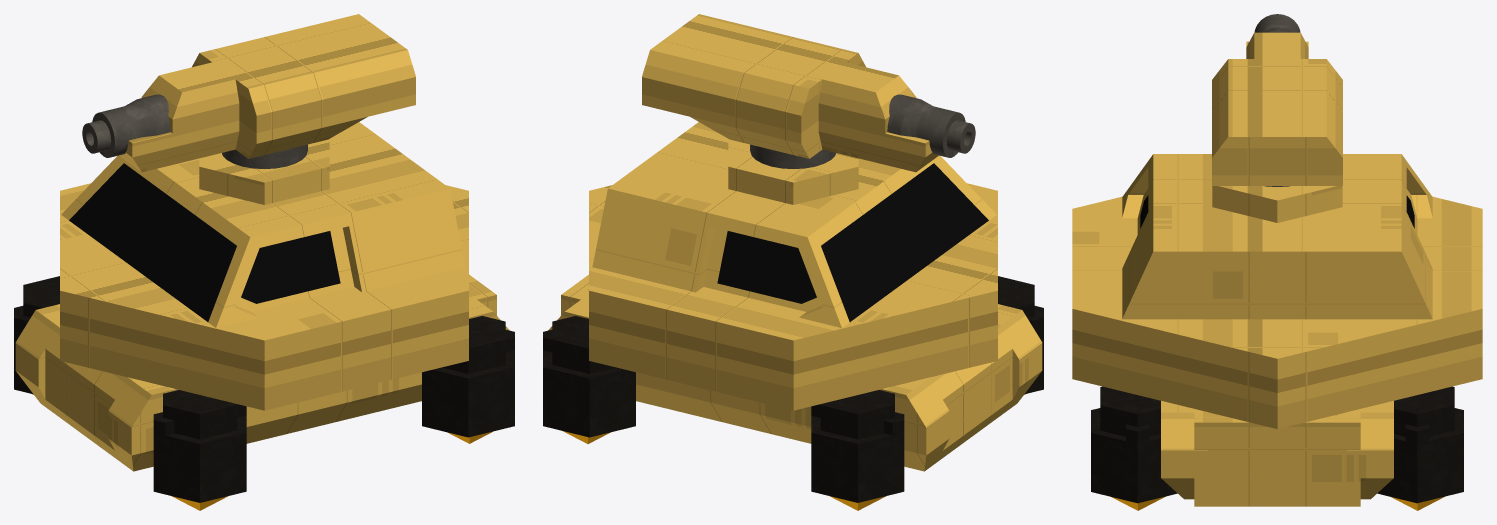
Rendered from hexTankFinalFlame.glb.
The picture shows the model from 3 angles, left to right: view 1: azimuth 30°, elevation 25°; view 2: azimuth 150°, elevation 25°; view 3: azimuth 270°, elevation 25°; orthographic projection.
Parts seen in each view (by area): view 1: mergedBlocks(Clone); view 2: mergedBlocks(Clone); view 3: mergedBlocks(Clone).
Part boxes in pixels (left/top/right/bottom): mergedBlocks(Clone): left=14, top=14, right=514, bottom=510; mergedBlocks(Clone): left=543, top=14, right=1043, bottom=510; mergedBlocks(Clone): left=1072, top=14, right=1482, bottom=510.
Bounding box in the file's own units: 1.52 × 1.3 × 1.32.
Materials: 5 (3 with a texture image).
